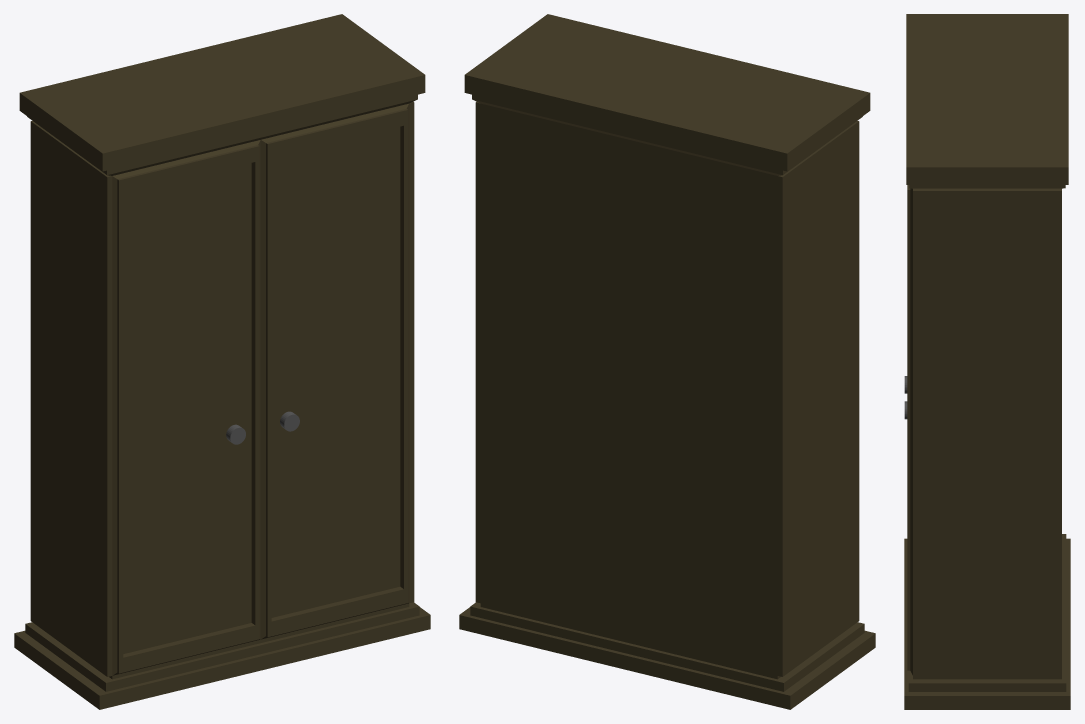
The model's file is dulap camera.fbx.
3 views of the same model, side by side, from view 1: azimuth 30°, elevation 25°; view 2: azimuth 150°, elevation 25°; view 3: azimuth 270°, elevation 25° (orthographic). The views are drawn at different scales.
Visible parts, largest first — view 1: Cylinder.004; view 2: Cylinder.004; view 3: Cylinder.004.
Boxes of the visible parts, box(x1,y1,x2,y2) form: Cylinder.004: box(14, 14, 430, 709); Cylinder.004: box(459, 14, 875, 709); Cylinder.004: box(904, 14, 1070, 709).
Bounding box in the file's own units: 196 × 313 × 87.3.
